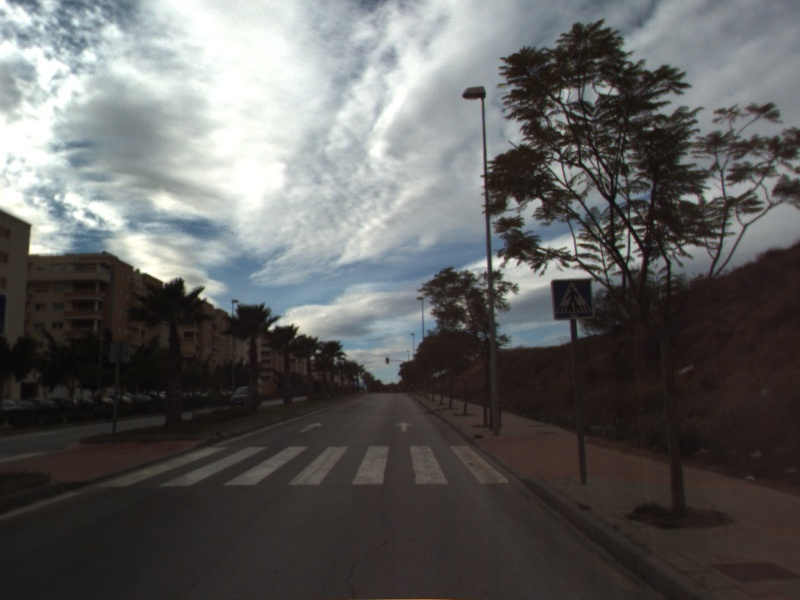STRAIGHT: (297, 420, 325, 434), (393, 419, 415, 434)
